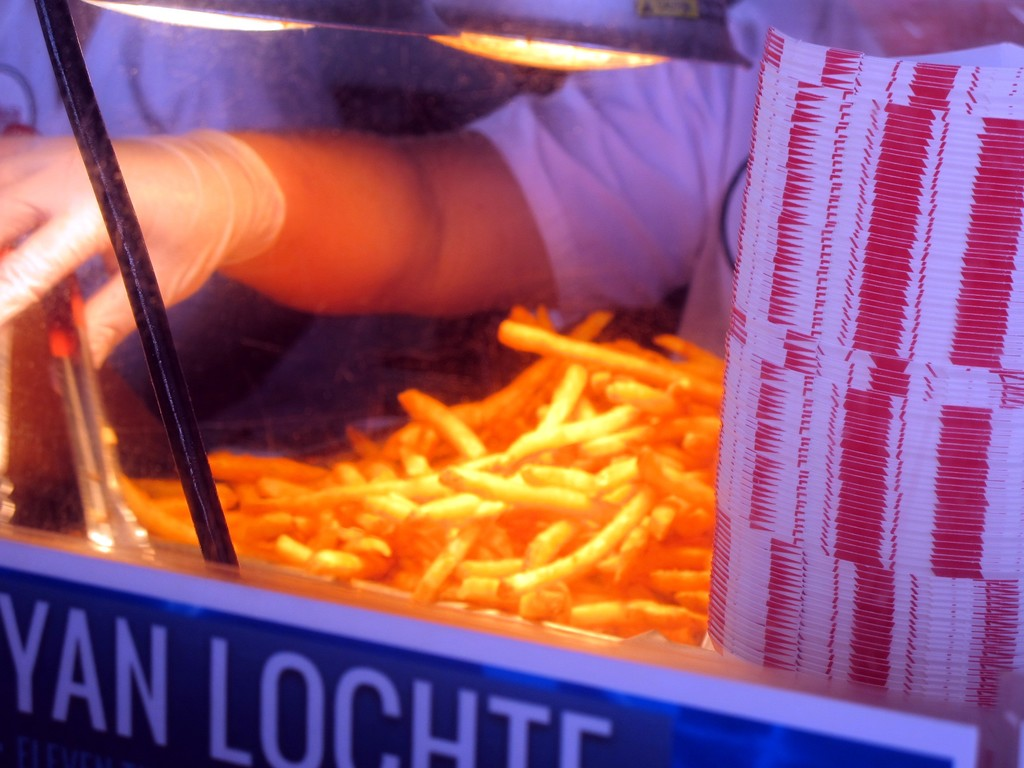French fries: (183, 231, 755, 680)
